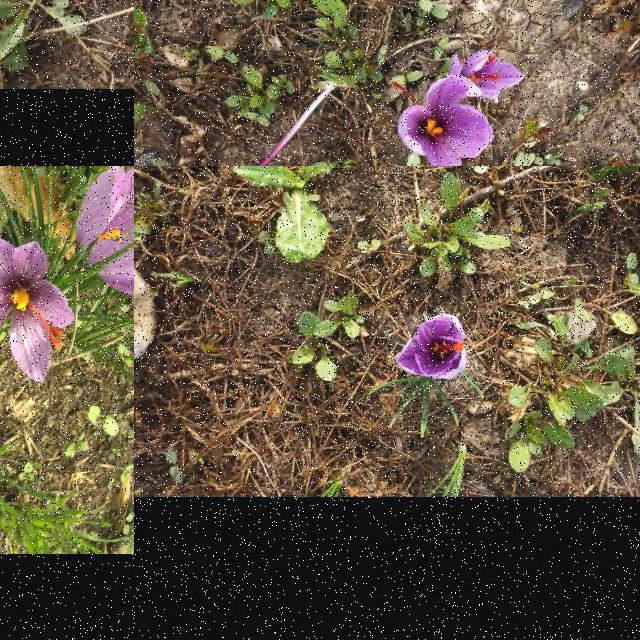flower: (0, 230, 76, 384), (391, 75, 491, 166), (75, 166, 134, 308), (396, 314, 464, 380), (448, 51, 524, 103)
